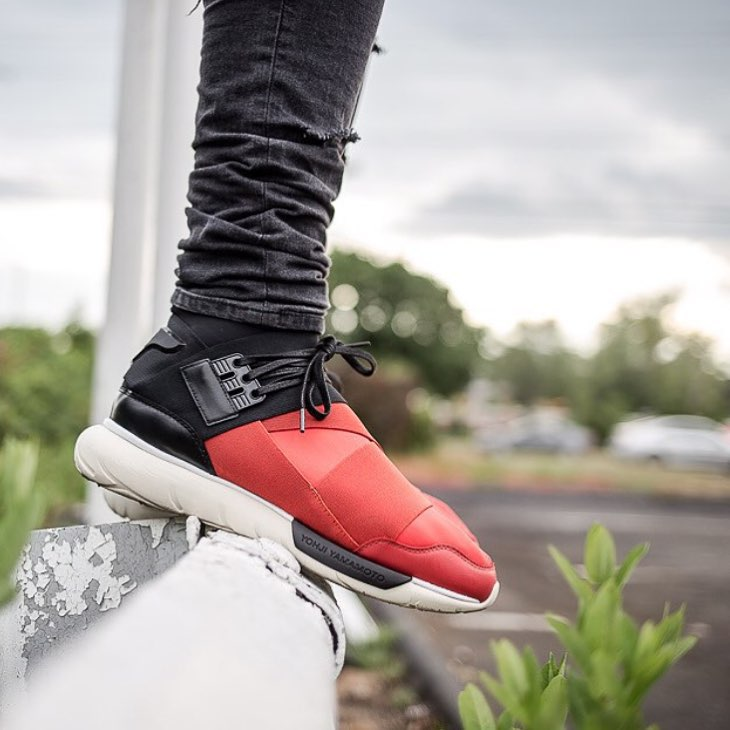sneaker: (65, 268, 515, 631)
